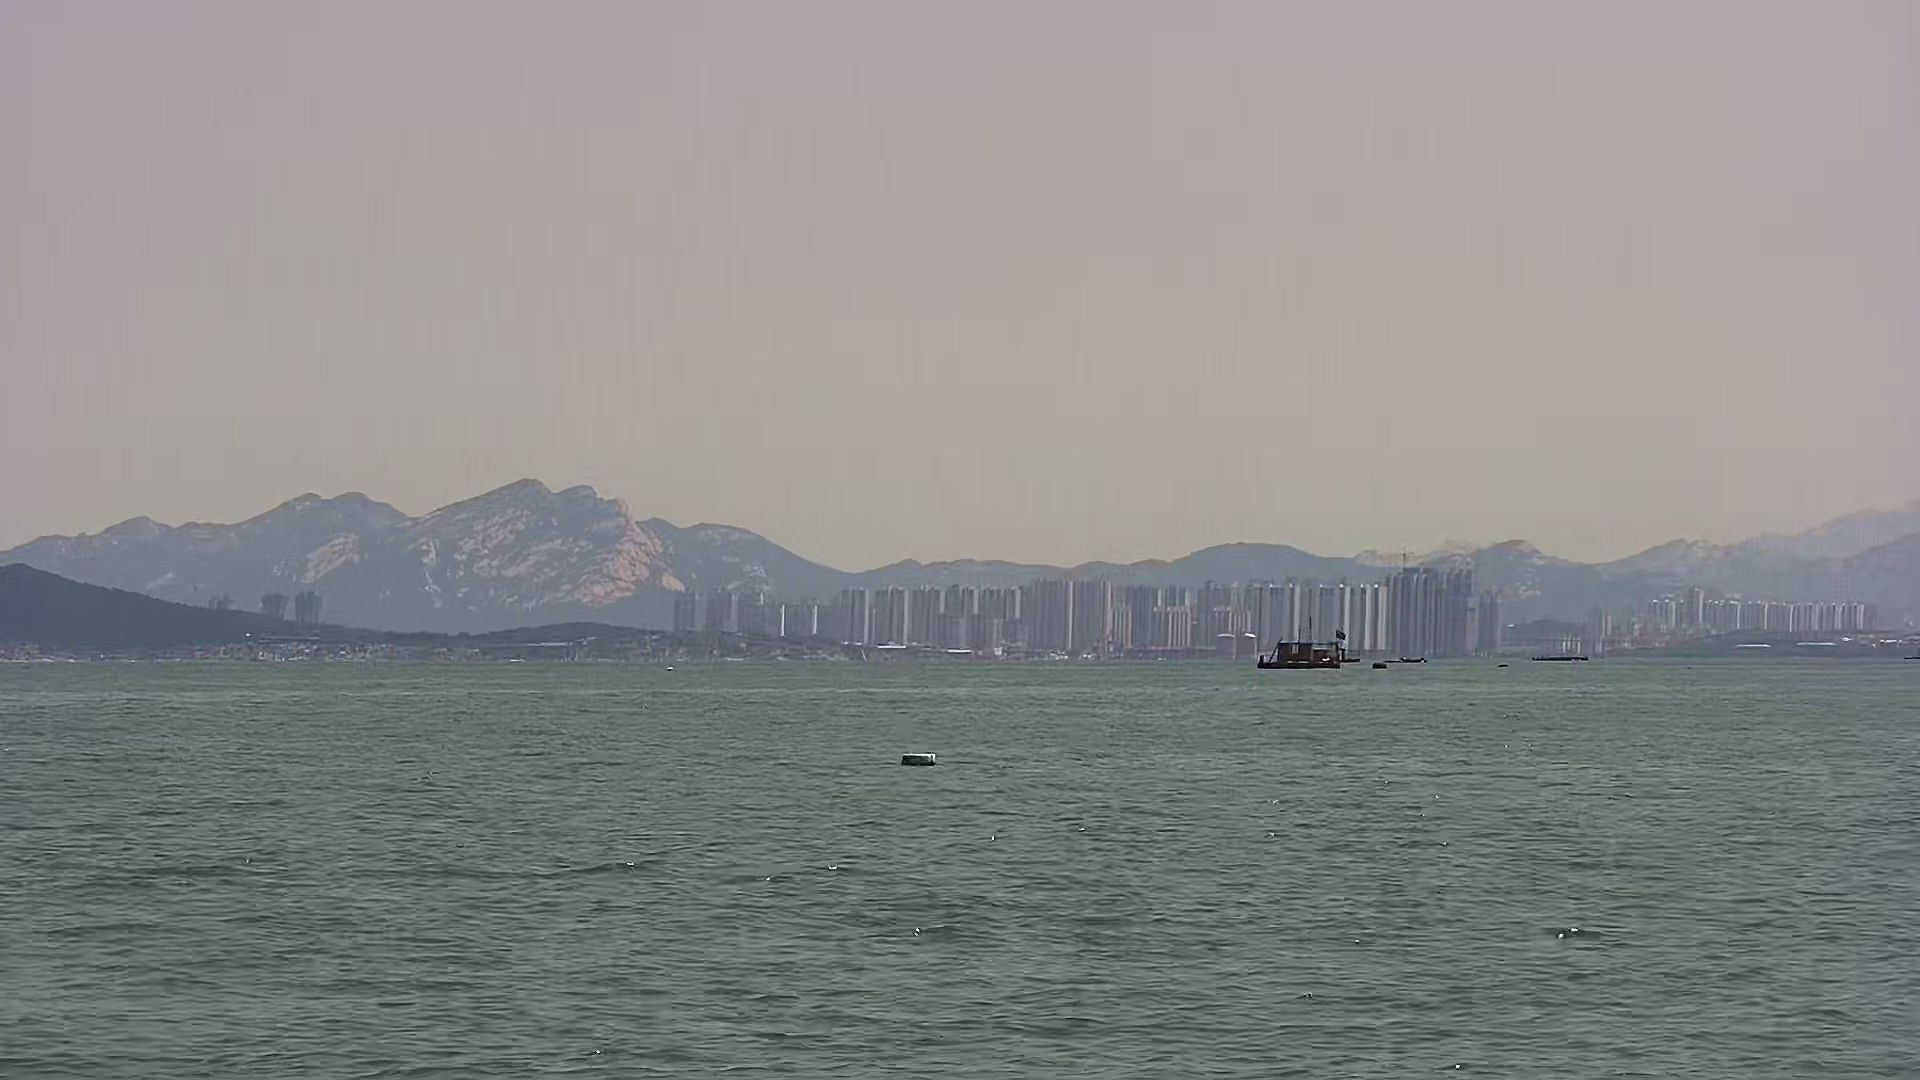platform: (899, 750, 952, 770)
ship: (1261, 636, 1346, 676)
